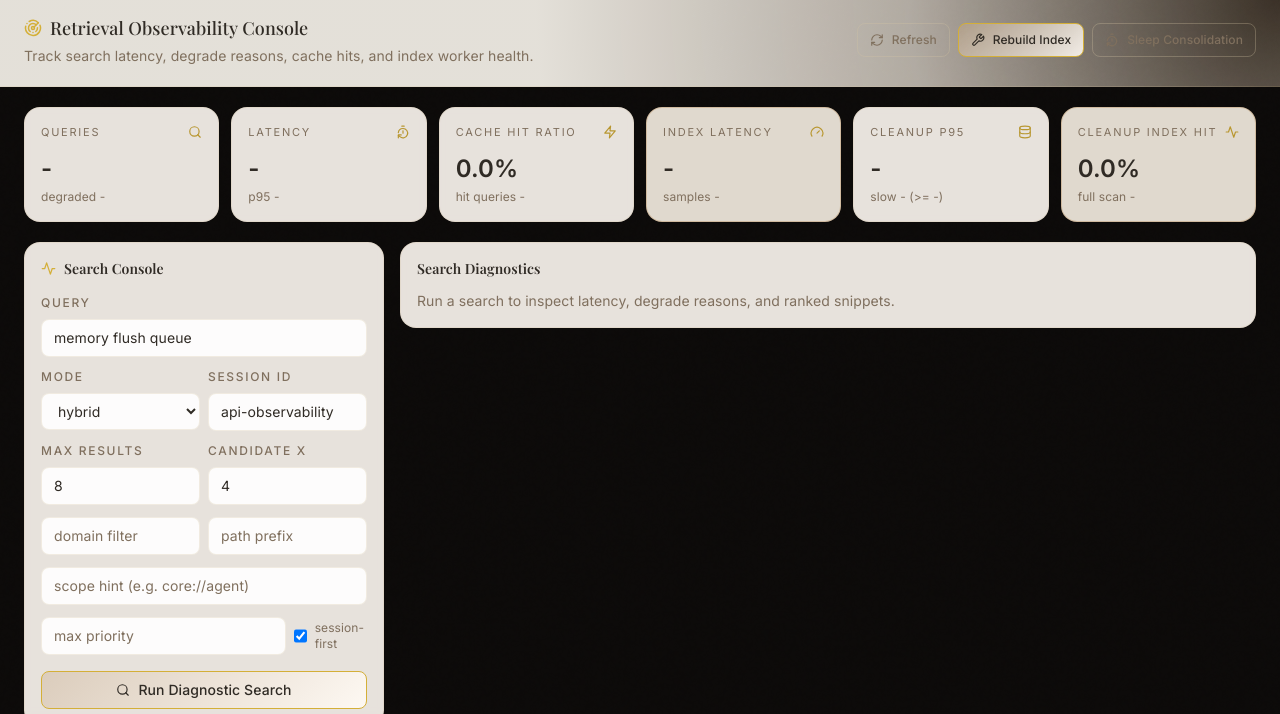
Test: ObservabilityPage › blocks diagnostic search when max priority is not an integer
Type "1.9" into the number field named "Max priority filter".
click(163, 636); type("1.9")  # box [41,616,286,654]
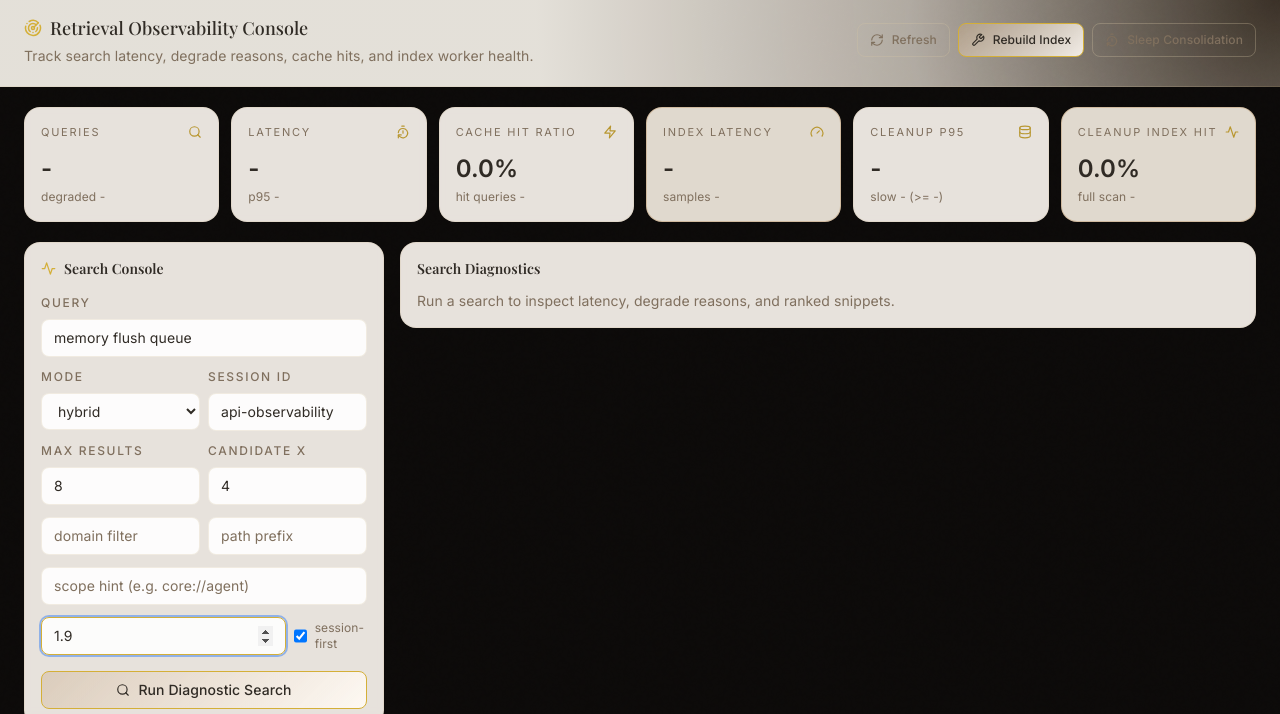
Click the button "Run Diagnostic Search".
click(204, 690)  # box [41,670,367,708]
(page scrolled)
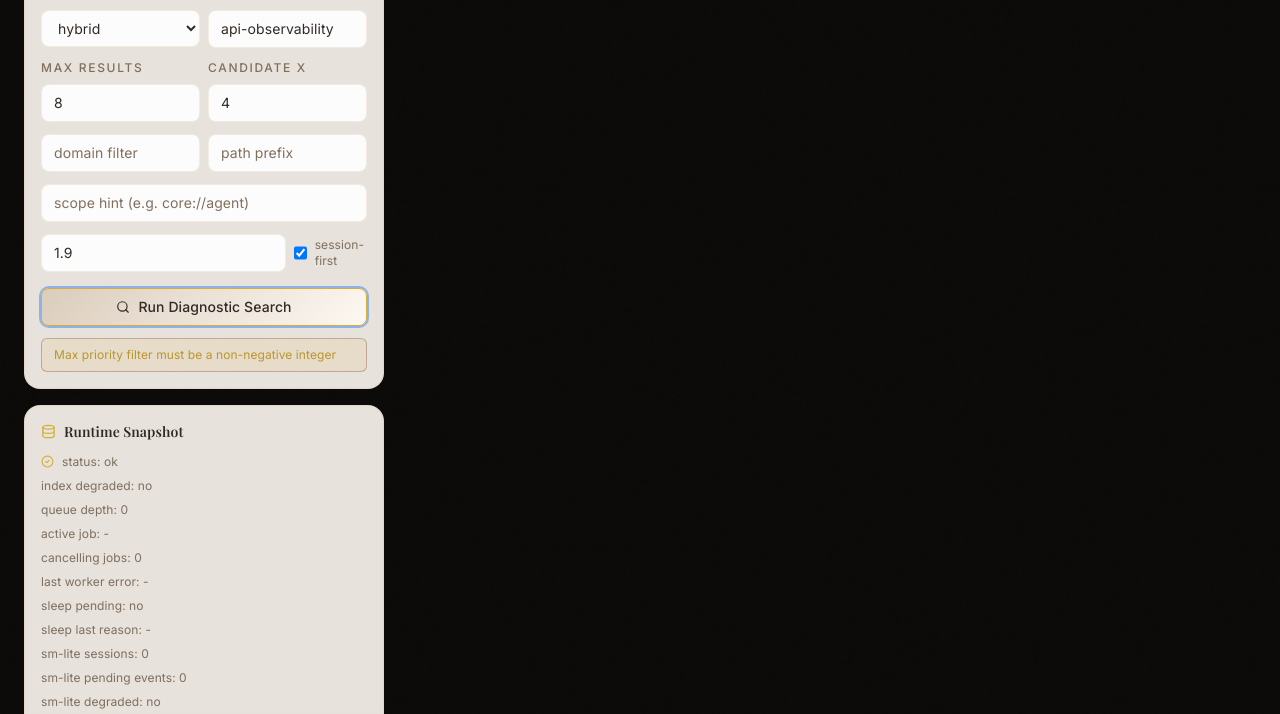
Expected: the text "Max priority filter must be a non-negative integer" is shown, [41,338,367,372]
